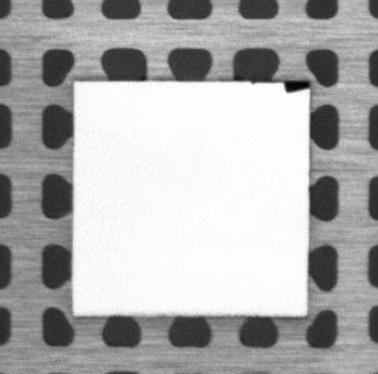DIE_BROKEN: (281, 77, 312, 93)
